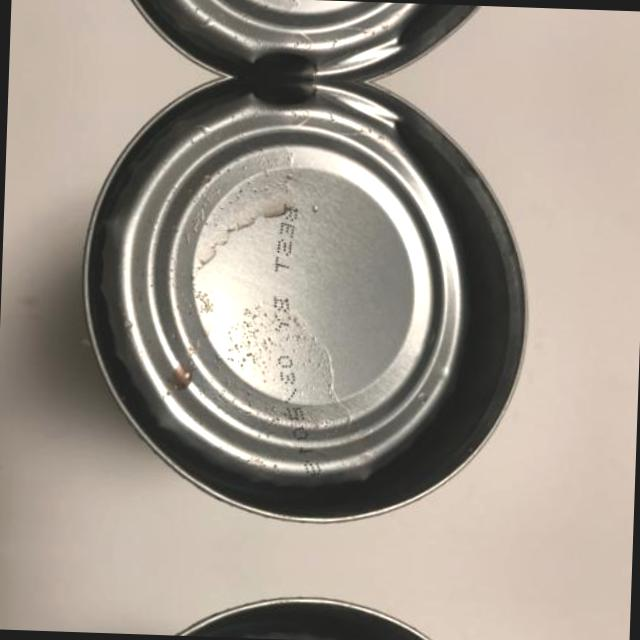Metal: (65, 71, 544, 530), (81, 0, 547, 85), (61, 588, 526, 640)
